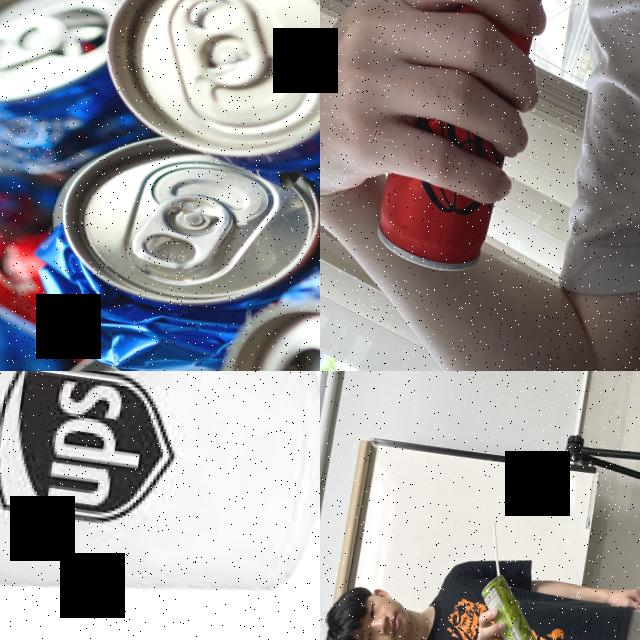can: (368, 0, 577, 287), (471, 568, 547, 640)
cup: (0, 371, 320, 640)
